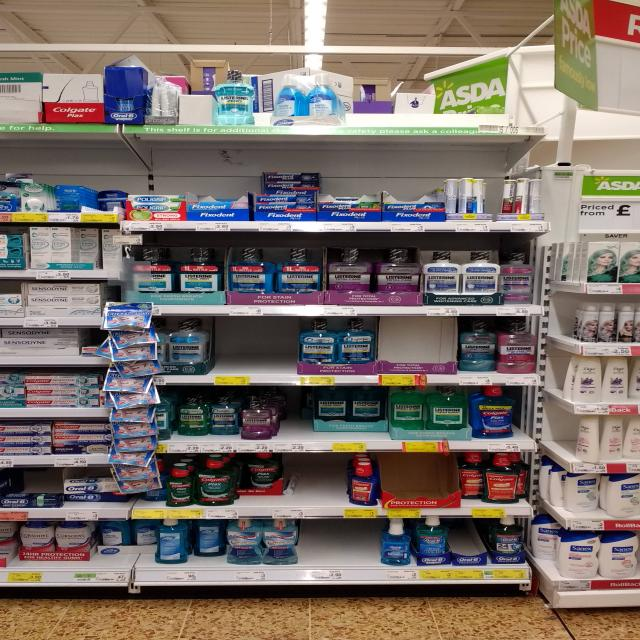unorganised: (312, 389, 390, 441), (17, 523, 93, 567), (179, 395, 239, 441), (211, 69, 256, 127), (235, 457, 286, 506), (98, 522, 156, 564), (498, 177, 546, 219), (445, 173, 488, 219), (191, 522, 226, 565), (569, 473, 601, 519), (533, 517, 561, 569), (60, 477, 126, 499), (53, 182, 86, 215), (72, 228, 98, 269), (575, 418, 598, 463), (93, 189, 124, 216)
